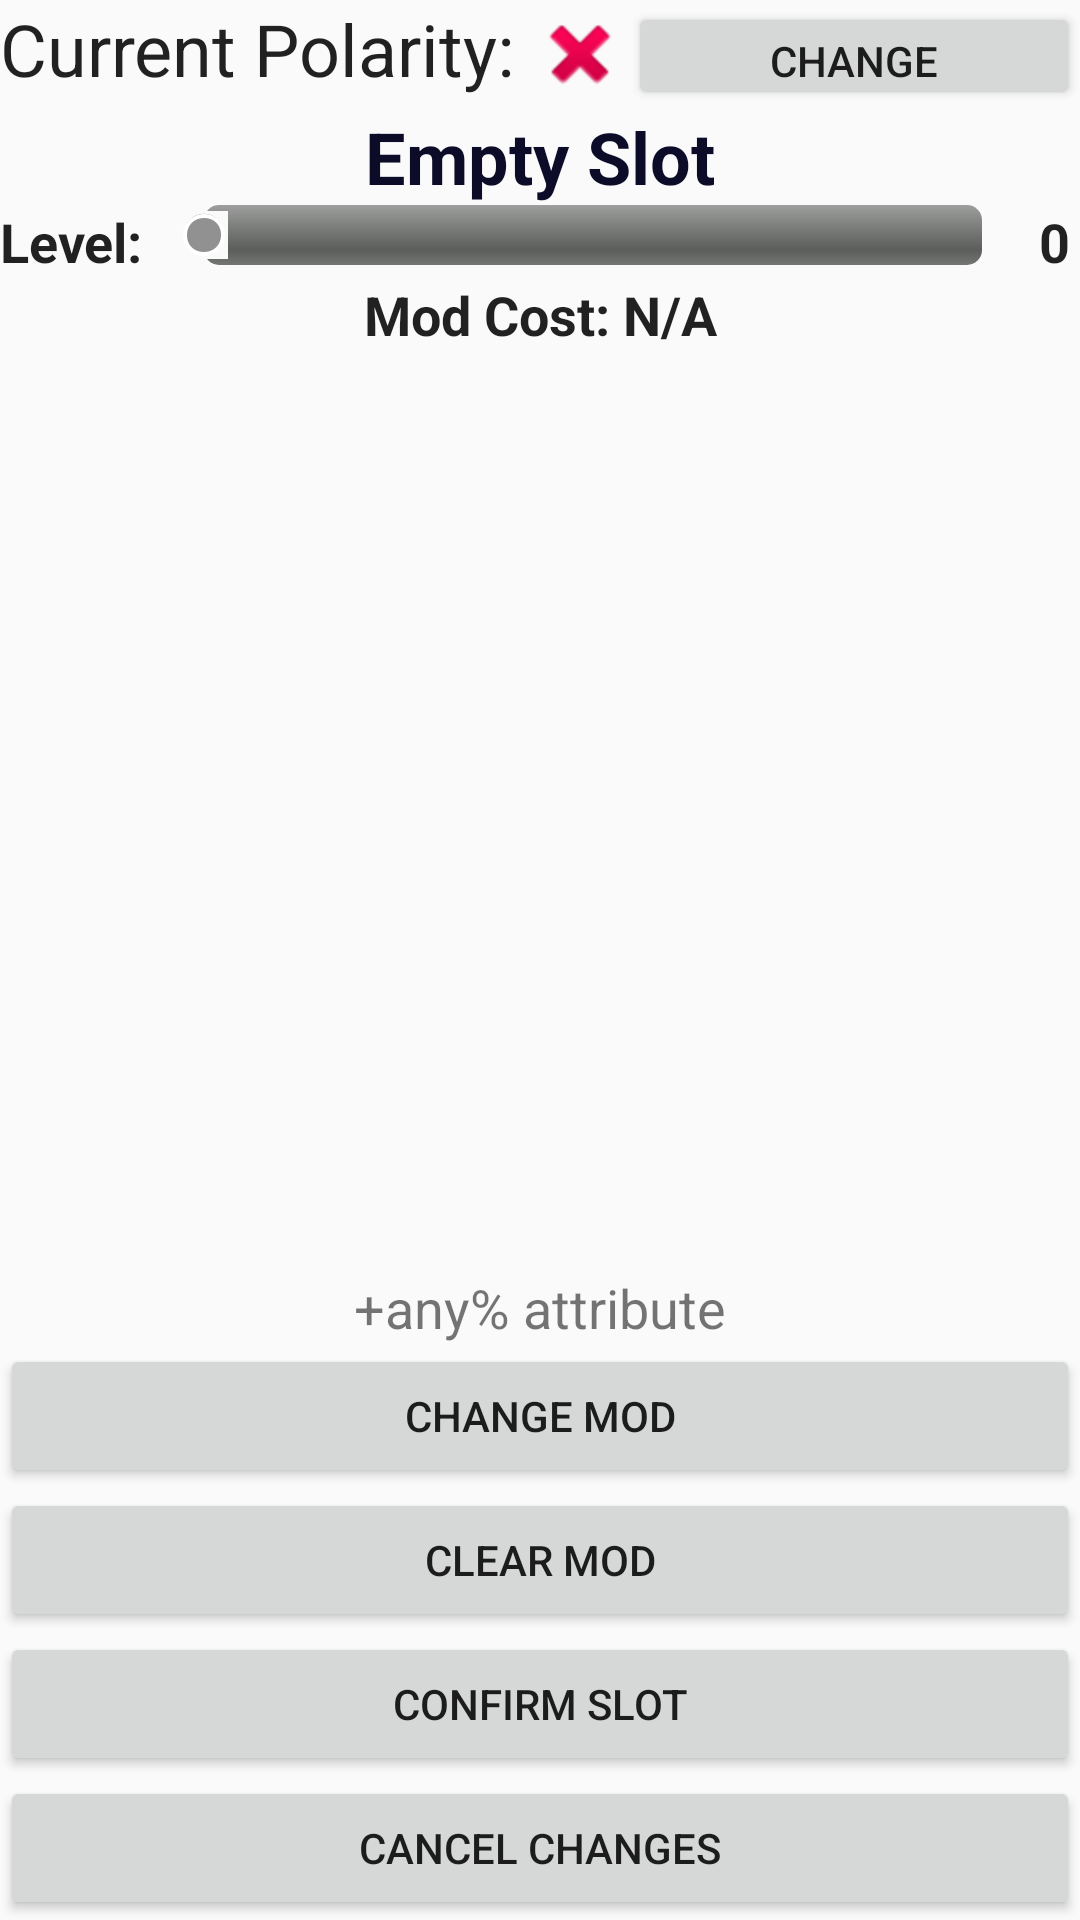

Icons on this 1080w x 1920h Android screen, each with its box as [x1,y1,x2,y2]:
delete: [549,25,611,84]
